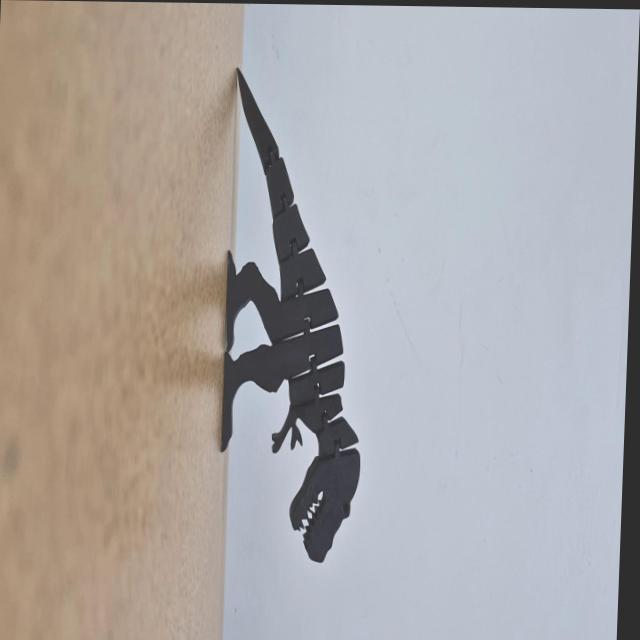dino: (214, 66, 375, 565)
